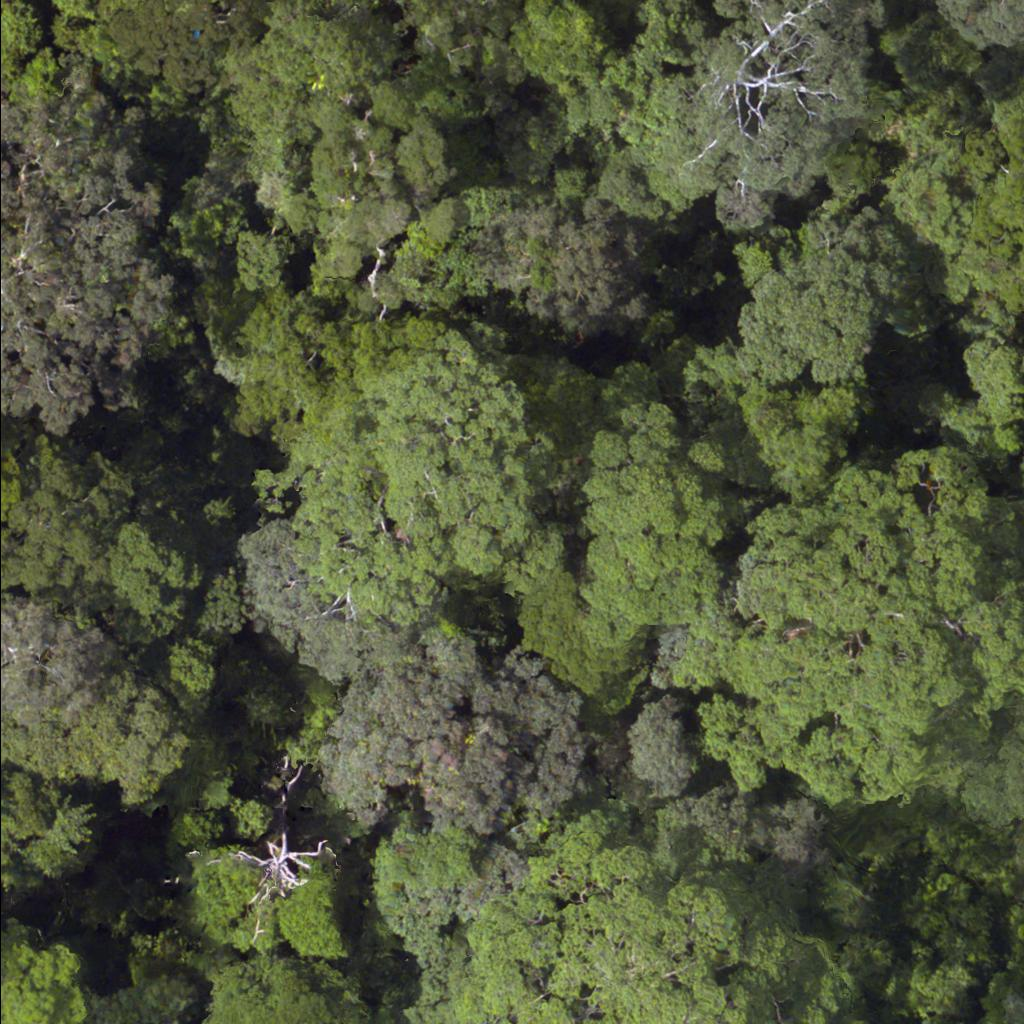crown: (713, 468, 1023, 797), (241, 355, 543, 677), (137, 684, 343, 978), (0, 102, 161, 408), (323, 631, 579, 823), (657, 0, 876, 218), (584, 411, 716, 638), (0, 451, 136, 593), (524, 581, 639, 685), (204, 966, 362, 1023), (108, 522, 186, 637), (0, 784, 79, 876), (625, 694, 693, 799), (0, 938, 79, 1023), (970, 705, 1023, 816), (155, 740, 230, 806), (228, 671, 300, 737), (195, 572, 245, 633), (168, 637, 216, 698), (947, 0, 1023, 38), (788, 1004, 822, 1023)
